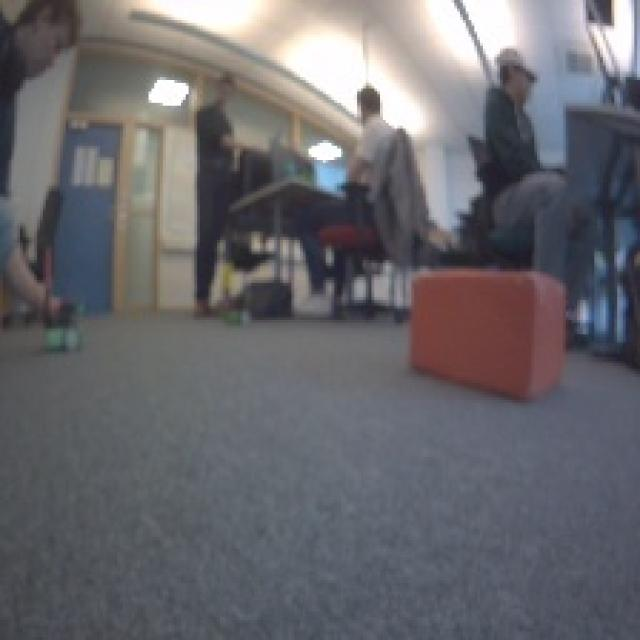robot: (36, 296, 88, 350), (218, 280, 254, 326)
target: (406, 263, 568, 400)
